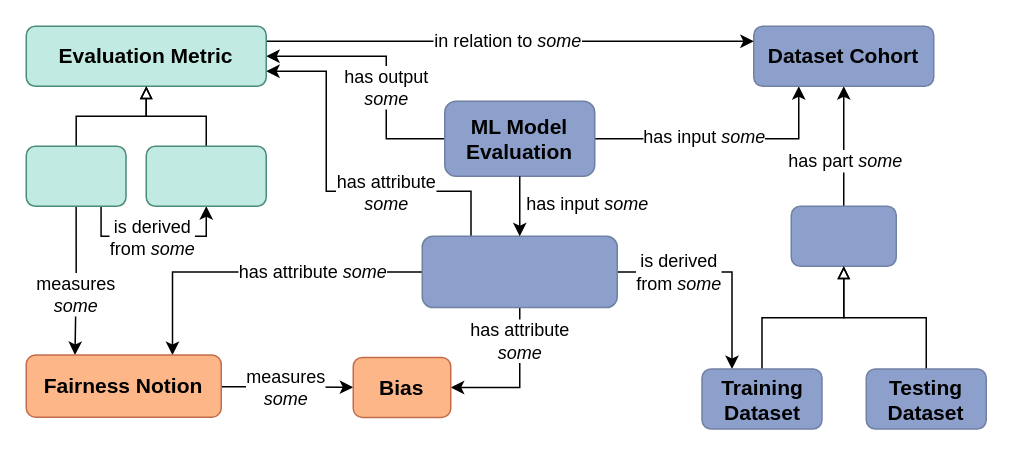
The diagram is 1013 pixels wide and 456 high, and some of its shapes have lost their labels. The centre of each missing label's shape, as x and y in pixels:
Dataset: pixel 843 235
Fairness Metric: pixel 75 175
Machine Learning Model: pixel 519 271
Statistical Metric: pixel 205 175
